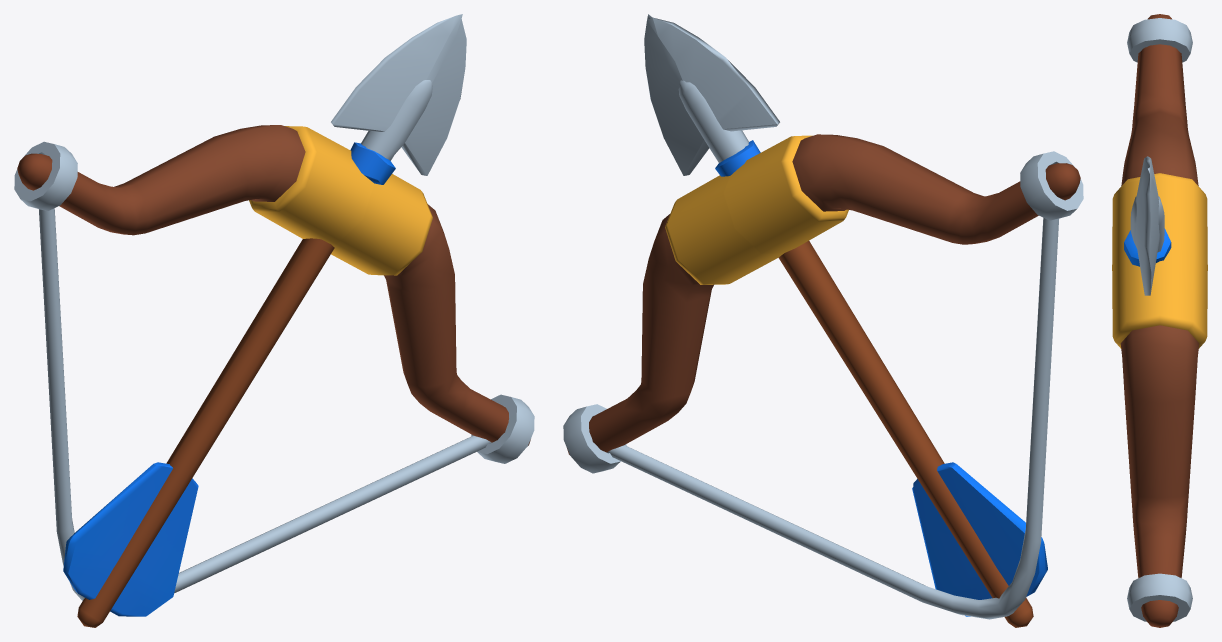
The picture shows the model from 3 angles, left to right: view 1: azimuth 30°, elevation 25°; view 2: azimuth 150°, elevation 25°; view 3: azimuth 270°, elevation 25°; orthographic projection. The views are drawn at different scales.
Parts seen in each view (by area): view 1: model_1.031; view 2: model_1.031; view 3: model_1.031.
Boxes of the visible parts, left/top/right/bottom form: model_1.031: left=14, top=14, right=534, bottom=627; model_1.031: left=563, top=14, right=1083, bottom=627; model_1.031: left=1112, top=14, right=1207, bottom=627.
Bounding box in the file's own units: 4.21 × 4.15 × 0.7259.
